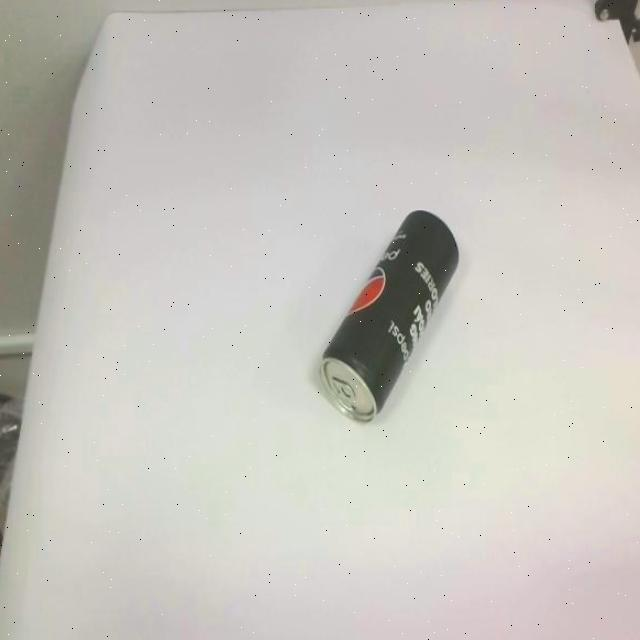debris: (318, 209, 461, 424)
